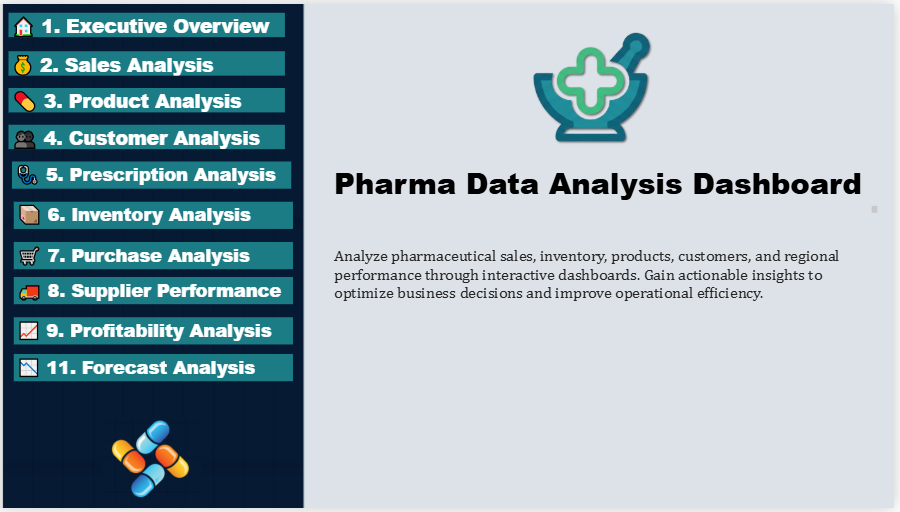

The dashboard page shown, as its layout file describes it:
{"tool":"powerbi","page":{"name":"Introduction ","canvas":[1280,720],"ordinal":0},"visuals":[{"type":"image","box":[2.5,0,435,1000],"z":0},{"type":"image","box":[708,0,262,206],"z":1000},{"type":"textbox","title":"Pharma Data Analysis Dashboard","box":[476,224,786,78],"z":2000},{"type":"textbox","title":"Analyze pharmaceutical sales, inventory, products, customers, and regional performance through interactive dashboards. Gain actionable insights to optimize business decisions and improve operational e","box":[476,344,768,246],"z":3000},{"type":"textbox","title":"🏠\t1. Executive Overview","box":[15,12.5,395,35],"z":4000},{"type":"textbox","title":"💰 2. Sales Analysis","box":[15,67.5,395,35],"z":5000},{"type":"textbox","title":"💊 3. Product Analysis","box":[15,118.8,395,35],"z":6000},{"type":"textbox","title":"👥 4. Customer Analysis","box":[15,171.2,395,35],"z":7000},{"type":"textbox","title":"🩺 5. Prescription Analysis","box":[20,223.8,398.8,38.8],"z":8000},{"type":"textbox","title":"📦 6. Inventory Analysis","box":[21.2,281.2,398.8,38.8],"z":9000},{"type":"textbox","title":"🛒 7. Purchase Analysis","box":[21.2,340,398.8,38.8],"z":10000},{"type":"textbox","title":"🚚 8. Supplier Performance","box":[21.2,388.8,398.8,38.8],"z":11000},{"type":"textbox","title":"📈 9. Profitability Analysis","box":[21.2,447.5,398.8,38.8],"z":12000},{"type":"textbox","title":"📉 11. Forecast Analysis","box":[21.2,500,398.8,38.8],"z":13000},{"type":"image","box":[116.7,590,203.3,120],"z":14000}]}

Visuals, with their boxes in screenshot pixels (x1, y1, x2, y2), scaled from the page's 1280x720 canvas onto the 900x512 screenshot:
image: 2:0:308:511
image: 498:0:682:146
"Pharma Data Analysis Dashboard" textbox: 335:159:887:215
"Analyze pharmaceutical sales, inventory, products, customers, and regional performance through interactive dashboards. Gain actionable insights to optimize business decisions and improve operational e" textbox: 335:245:875:420
"🏠	1. Executive Overview" textbox: 11:9:288:34
"💰 2. Sales Analysis" textbox: 11:48:288:73
"💊 3. Product Analysis" textbox: 11:84:288:109
"👥 4. Customer Analysis" textbox: 11:122:288:147
"🩺 5. Prescription Analysis" textbox: 14:159:294:187
"📦 6. Inventory Analysis" textbox: 15:200:295:228
"🛒 7. Purchase Analysis" textbox: 15:242:295:269
"🚚 8. Supplier Performance" textbox: 15:276:295:304
"📈 9. Profitability Analysis" textbox: 15:318:295:346
"📉 11. Forecast Analysis" textbox: 15:356:295:383
image: 82:420:225:505
